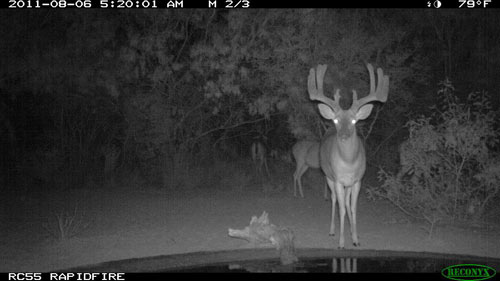deer: (282, 50, 380, 256), (246, 129, 270, 182)
